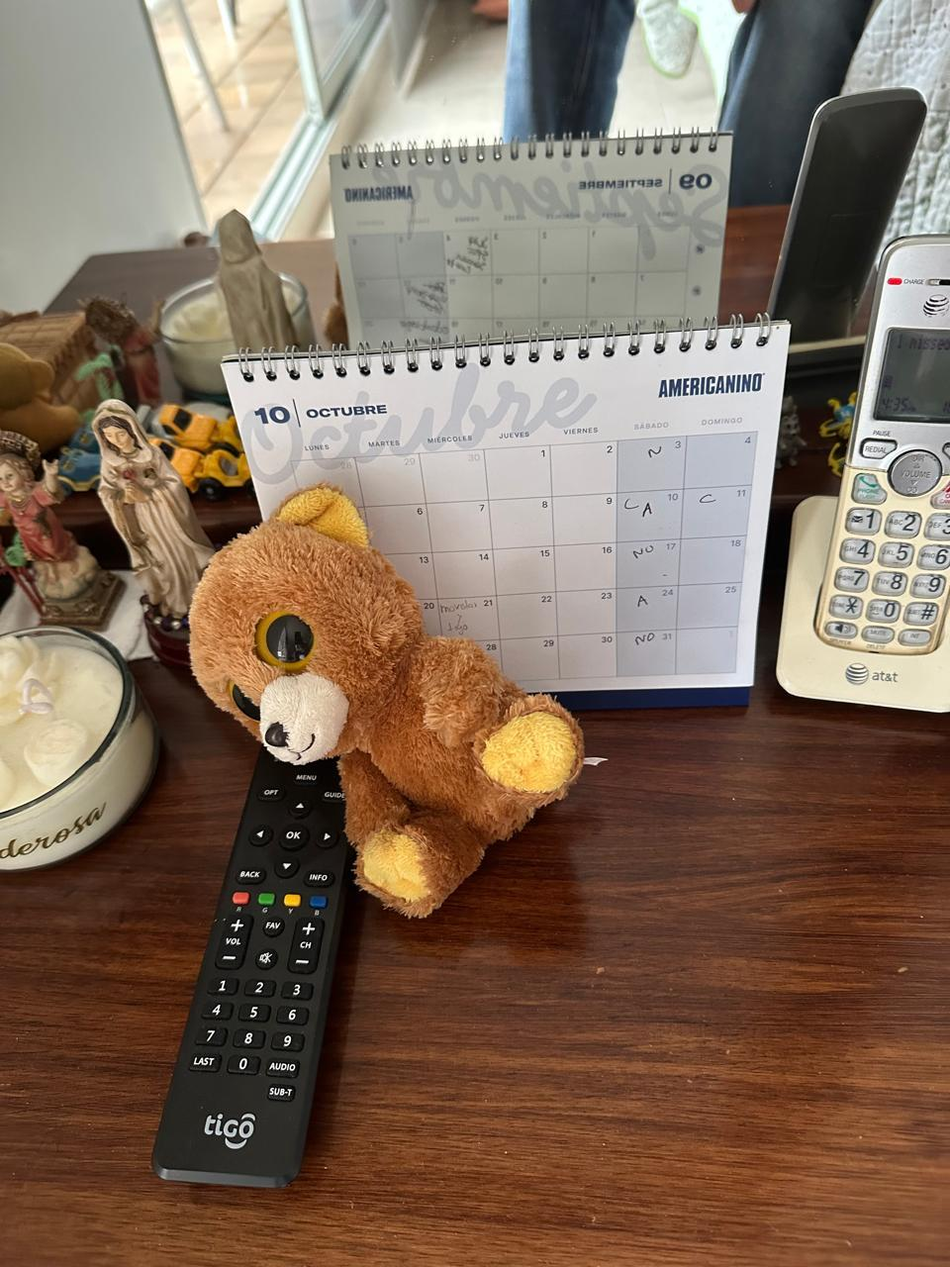peluche_sebastian: (181, 483, 586, 926)
